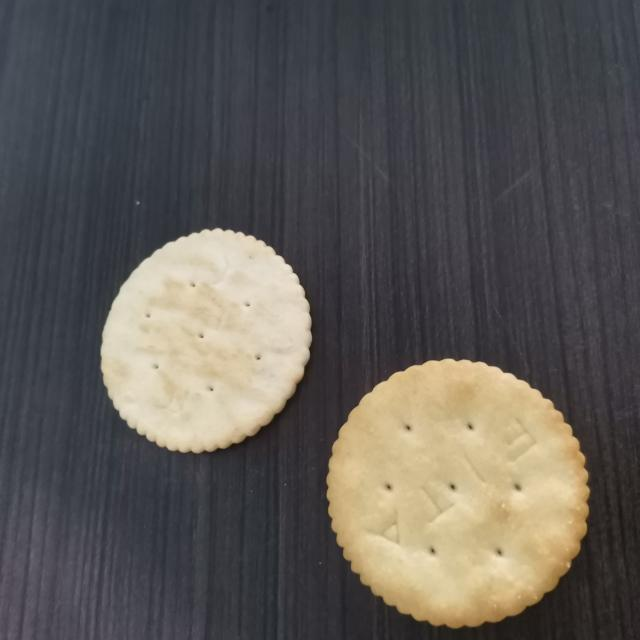Intact: (311, 339, 600, 638), (93, 222, 321, 465)
